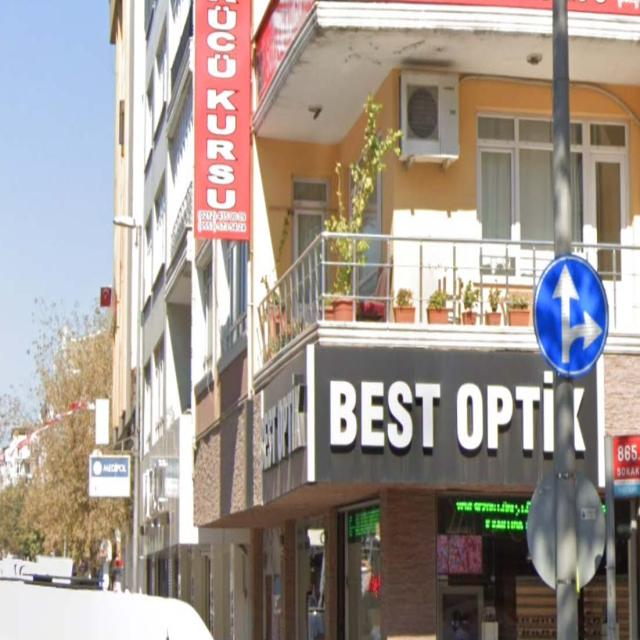ilerisag: (535, 254, 608, 376)
